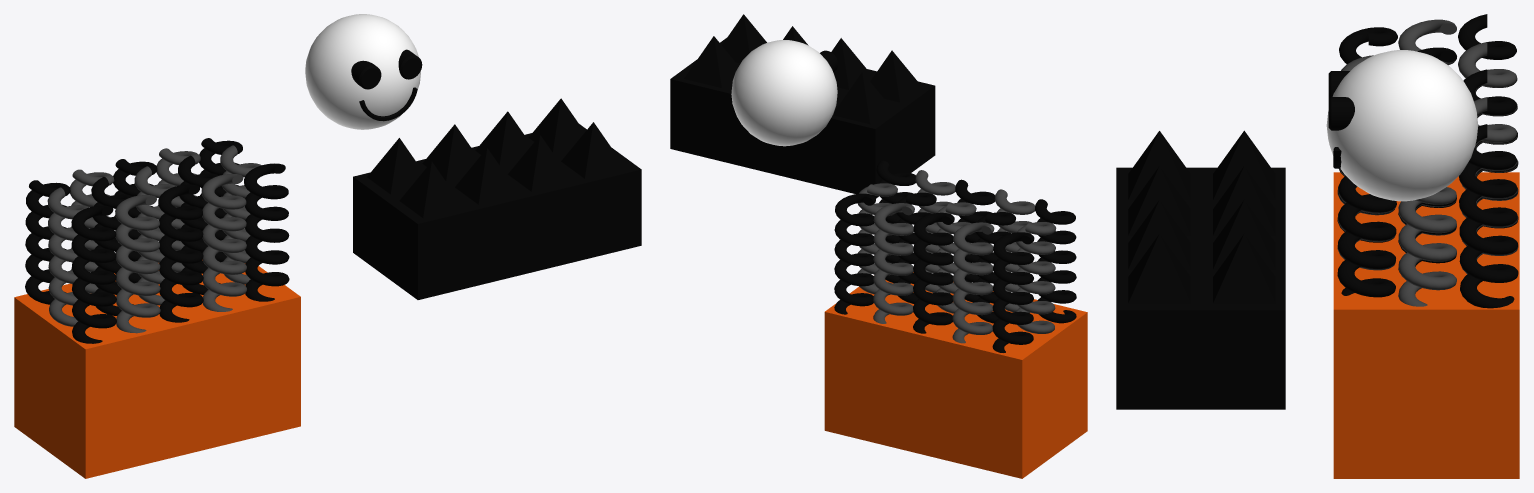
The model's file is fbgame.gltf.
The picture shows the model from 3 angles, left to right: view 1: azimuth 30°, elevation 25°; view 2: azimuth 150°, elevation 25°; view 3: azimuth 270°, elevation 25°; orthographic projection. The views are drawn at different scales.
Visible parts, largest first — view 1: upspring, blackbar, upspring.003, Cylinder.002; view 2: upspring, upspring.003, blackbar, Cylinder.002; view 3: blackbar, upspring, upspring.003, Cylinder.002.
Part boxes in pixels (<box>): upspring: <box>14,260,300,478</box>; blackbar: <box>353,98,641,299</box>; upspring.003: <box>25,138,289,343</box>; Cylinder.002: <box>305,14,422,129</box>; upspring: <box>824,272,1087,478</box>; upspring.003: <box>834,160,1076,352</box>; blackbar: <box>670,14,935,198</box>; Cylinder.002: <box>731,40,838,146</box>; blackbar: <box>1116,130,1285,409</box>; upspring: <box>1333,172,1519,478</box>; upspring.003: <box>1337,14,1518,308</box>; Cylinder.002: <box>1326,50,1478,201</box>.
Size of the model in its own units: 16.4 by 12.13 by 9.27.
